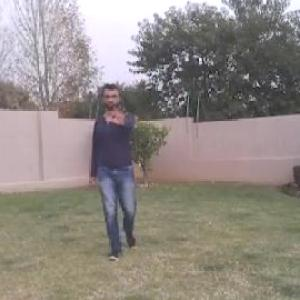follow_hand: (106, 101, 126, 128)
